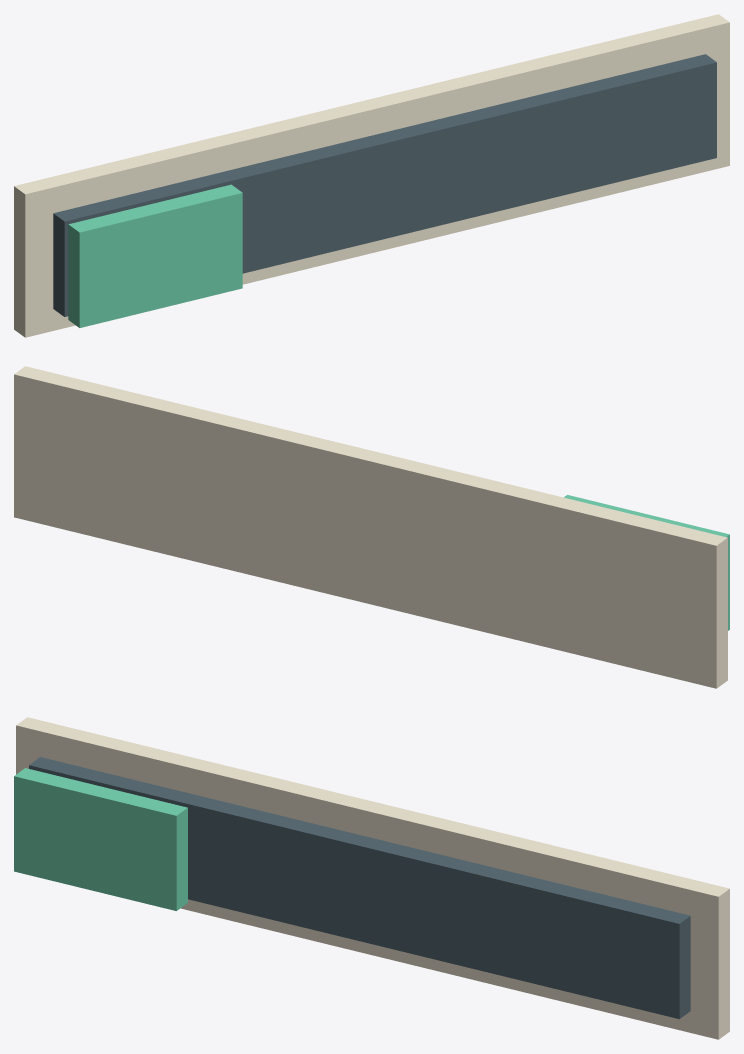
3 views of the same model, one above another, from view 1: azimuth 30°, elevation 25°; view 2: azimuth 150°, elevation 25°; view 3: azimuth 330°, elevation 25° (orthographic).
Parts seen in each view (by area): view 1: background, border, fill; view 2: border, fill; view 3: background, border, fill.
Part boxes in pixels (<box>): background: <box>53,54,716,316</box>; border: <box>14,14,729,337</box>; fill: <box>68,184,242,327</box>; border: <box>14,366,727,688</box>; fill: <box>564,495,729,630</box>; background: <box>29,757,690,1019</box>; border: <box>16,717,729,1039</box>; fill: <box>14,768,187,910</box>.
Bounding box in the file's own units: 1.08 × 0.21 × 0.105.
